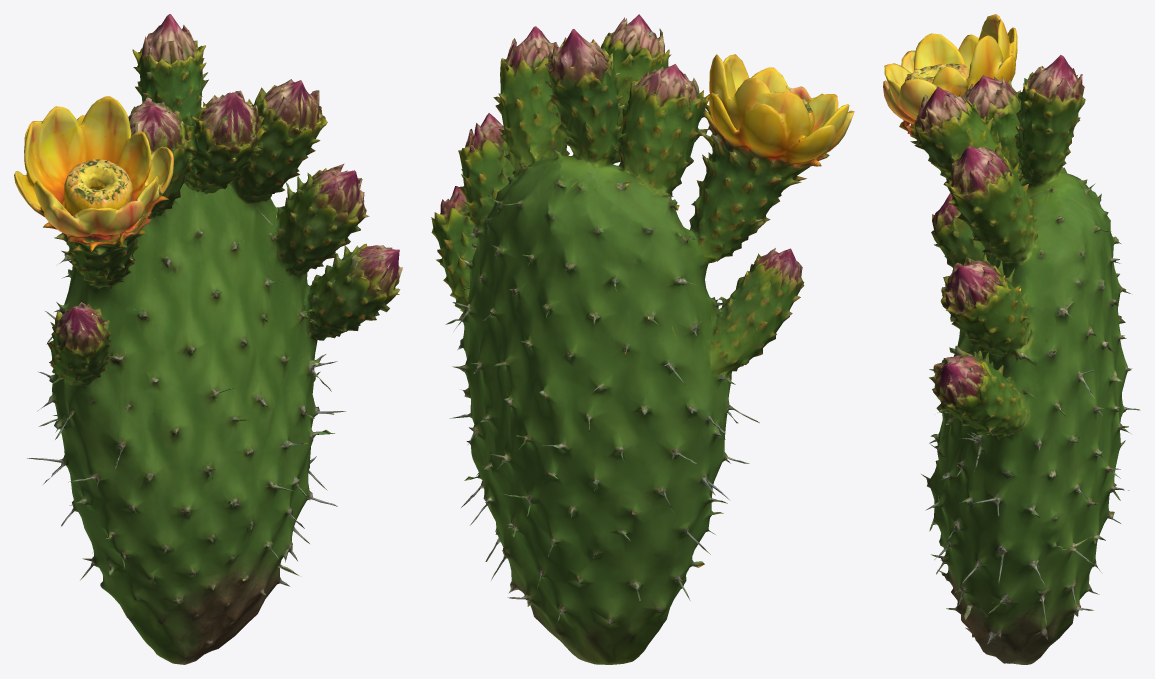
The model's file is opuntia.glb.
3 renders of one model, left to right at view 1: azimuth 30°, elevation 25°; view 2: azimuth 150°, elevation 25°; view 3: azimuth 270°, elevation 25°, orthographic. The views are drawn at different scales.
Parts seen in each view (by area): view 1: Mesh1.0; view 2: Mesh1.0; view 3: Mesh1.0.
Boxes of the visible parts, <box> form: Mesh1.0: <box>14,14,402,664</box>; Mesh1.0: <box>431,14,854,664</box>; Mesh1.0: <box>883,14,1140,664</box>.
Size of the model in its own units: 1.22 by 1.91 by 0.7345.
Materials: 1 (1 with a texture image).
